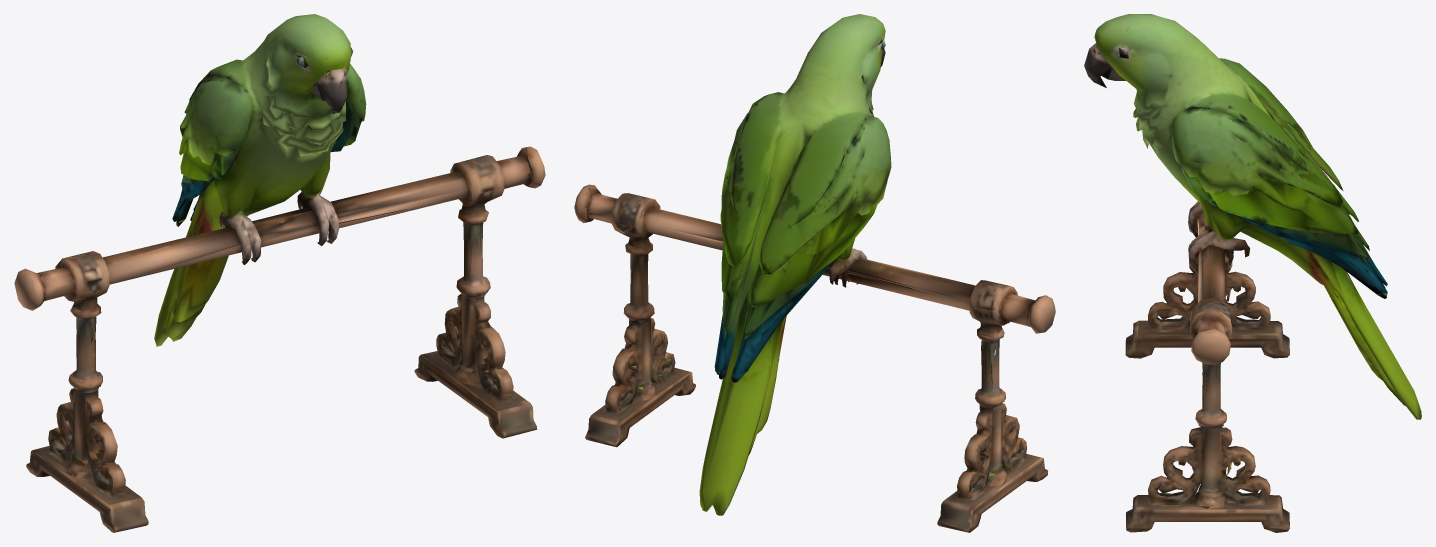
Rendered from yingge.glb.
The picture shows the model from 3 angles, left to right: view 1: azimuth 30°, elevation 25°; view 2: azimuth 150°, elevation 25°; view 3: azimuth 270°, elevation 25°; orthographic projection. The views are drawn at different scales.
Parts seen in each view (by area): view 1: 鹦鹉; view 2: 鹦鹉; view 3: 鹦鹉.
Boxes of the visible parts, x1=… form: 鹦鹉: x1=14, y1=14, x2=545, y2=532; 鹦鹉: x1=574, y1=14, x2=1055, y2=532; 鹦鹉: x1=1084, y1=14, x2=1421, y2=532.
Size of the model in its own units: 1.06 by 0.9 by 0.6547.
1 material, 1 textured.
